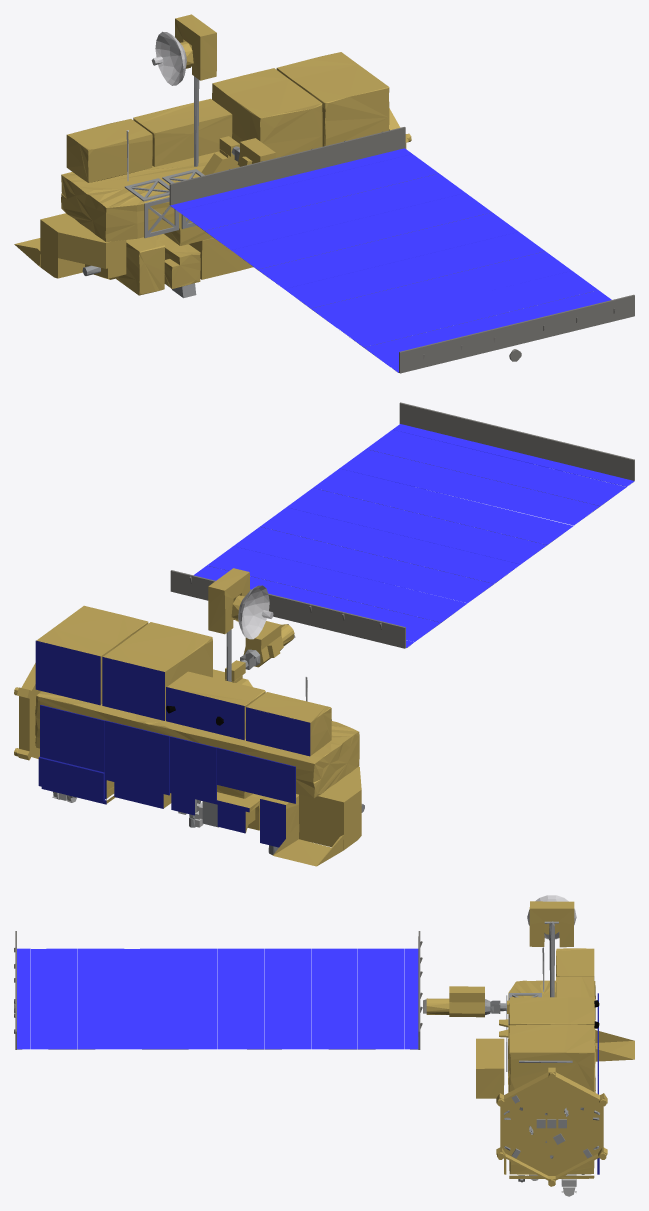
File: terra.glb
The picture shows the model from 3 angles, top to bottom: view 1: azimuth 30°, elevation 25°; view 2: azimuth 150°, elevation 25°; view 3: azimuth 270°, elevation 25°; orthographic projection. The views are drawn at different scales.
Parts seen in each view (by area): view 1: Terra_vFINAL [Layer1], Terra_vFINAL [Layer17]; view 2: Terra_vFINAL [Layer1], Terra_vFINAL [Layer17]; view 3: Terra_vFINAL [Layer17], Terra_vFINAL [Layer1].
Part boxes in pixels (left/top/right/bottom): Terra_vFINAL [Layer1]: left=14, top=14, right=634, bottom=373; Terra_vFINAL [Layer17]: left=170, top=148, right=611, bottom=372; Terra_vFINAL [Layer1]: left=14, top=402, right=634, bottom=866; Terra_vFINAL [Layer17]: left=194, top=424, right=634, bottom=647; Terra_vFINAL [Layer17]: left=17, top=948, right=418, bottom=1049; Terra_vFINAL [Layer1]: left=14, top=895, right=634, bottom=1196.
Bounding box in the file's own units: 13623 × 10270 × 26052.
2 materials, 2 textured.
